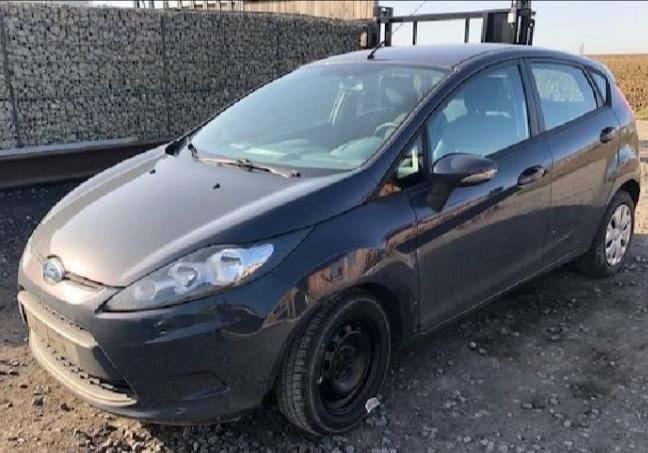Dent: (142, 301, 267, 345)
Missing part: (24, 307, 81, 366)
Paint chip: (413, 299, 418, 305)
Scratch: (130, 405, 189, 417), (159, 328, 172, 336)
